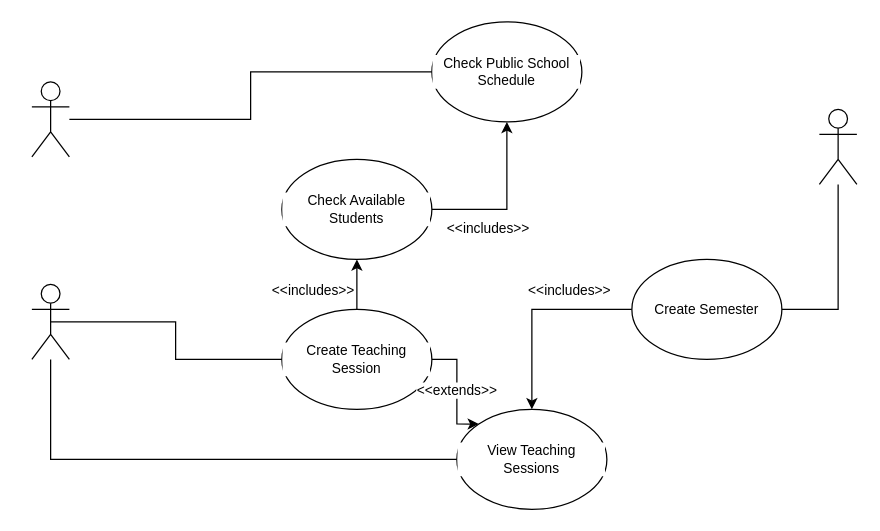
This 880x531 diagram has some shape labels left out. Here are the shapes that lost their labels. From the top down, the centre of each, then its label:
At [50,119]: "Student".
At [837,146]: "Admin".
At [50,321]: "Instructor".
